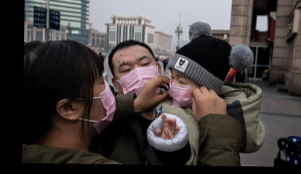with_mask: (78, 74, 117, 134), (114, 53, 160, 101), (169, 69, 199, 107)
